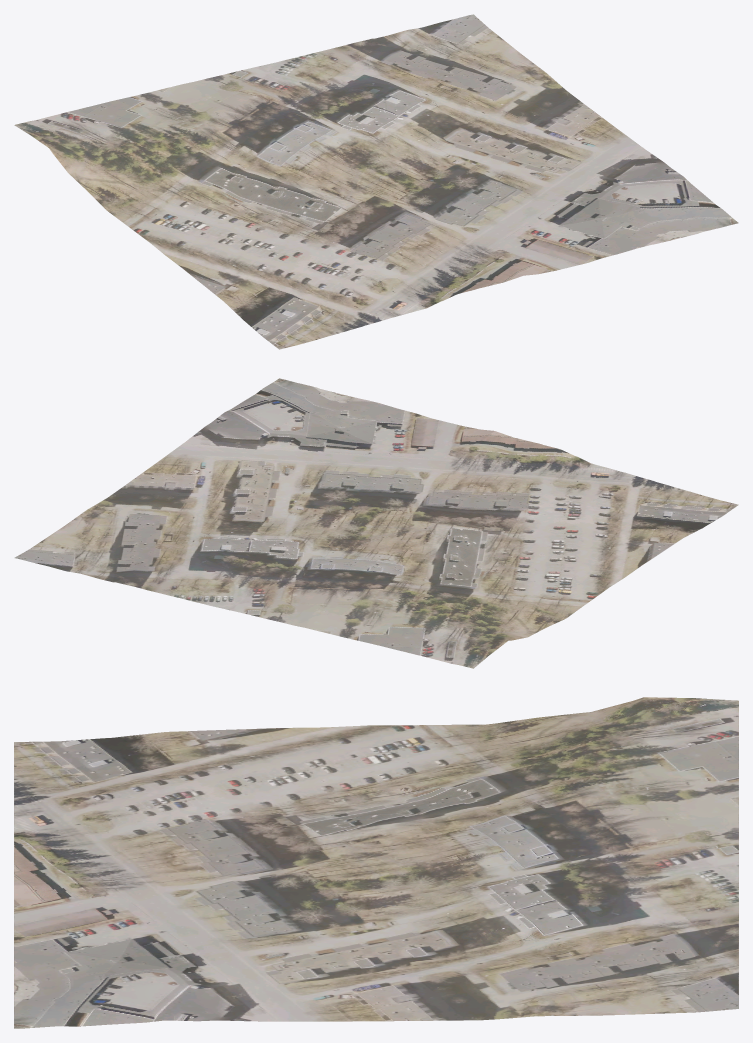
Rendered from CM_Terrain_24491892_6814674.fbx.
3 views of the same model, one above another, from view 1: azimuth 30°, elevation 25°; view 2: azimuth 150°, elevation 25°; view 3: azimuth 270°, elevation 25° (orthographic). The views are drawn at different scales.
Visible parts, largest first — view 1: CM_Terrain_24491892_6814674_LOD0; view 2: CM_Terrain_24491892_6814674_LOD0; view 3: CM_Terrain_24491892_6814674_LOD0.
Boxes of the visible parts, <box> form: CM_Terrain_24491892_6814674_LOD0: <box>14,14,738,349</box>; CM_Terrain_24491892_6814674_LOD0: <box>14,378,738,668</box>; CM_Terrain_24491892_6814674_LOD0: <box>14,697,738,1028</box>.
Size of what is drawn, in the model's own units: 205 by 13.98 by 205.
